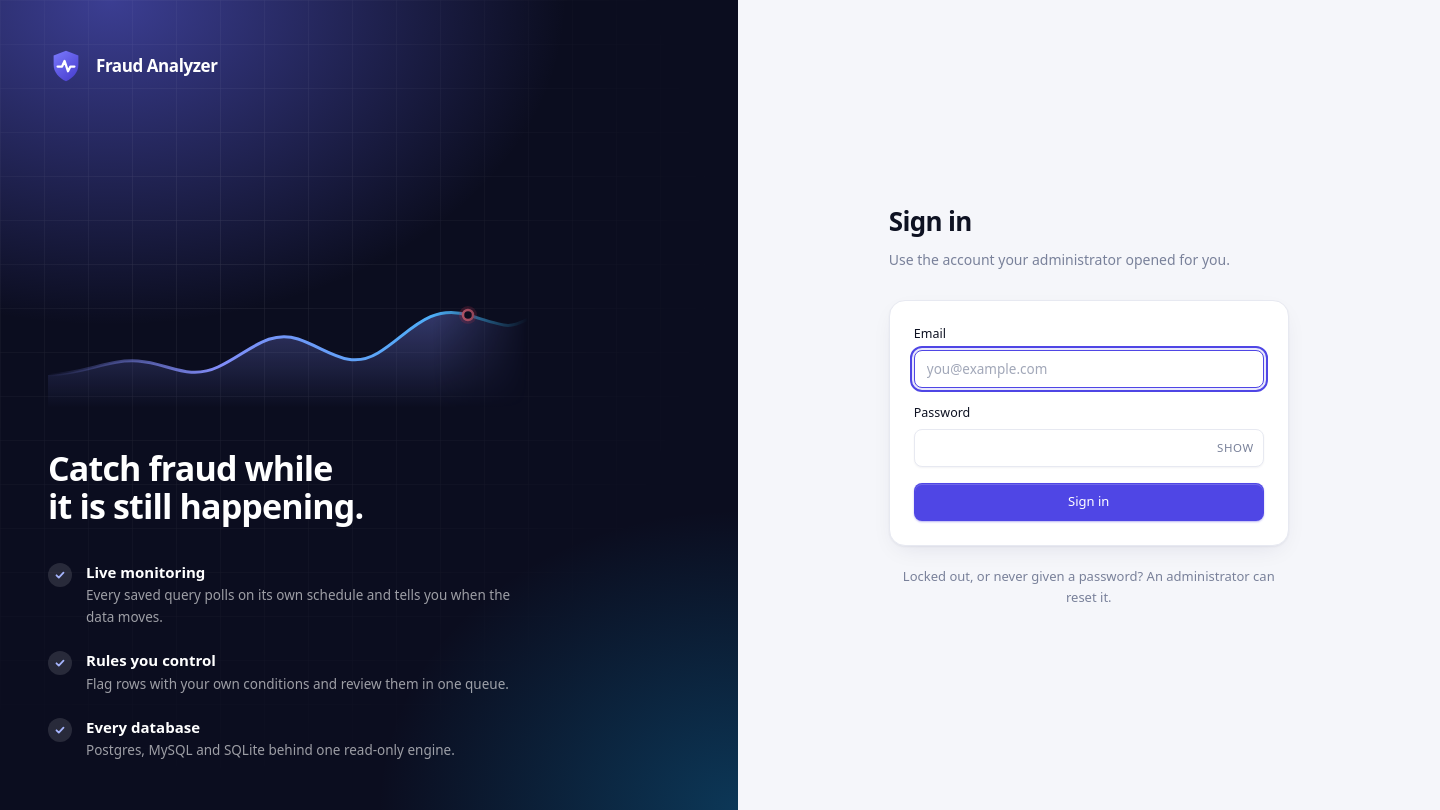
when it goes wrong › shows the engine's own sentence
Type "ada@example.com" into the field labelled "Email" at coordinates (1089, 369), box [914,350,1264,388]
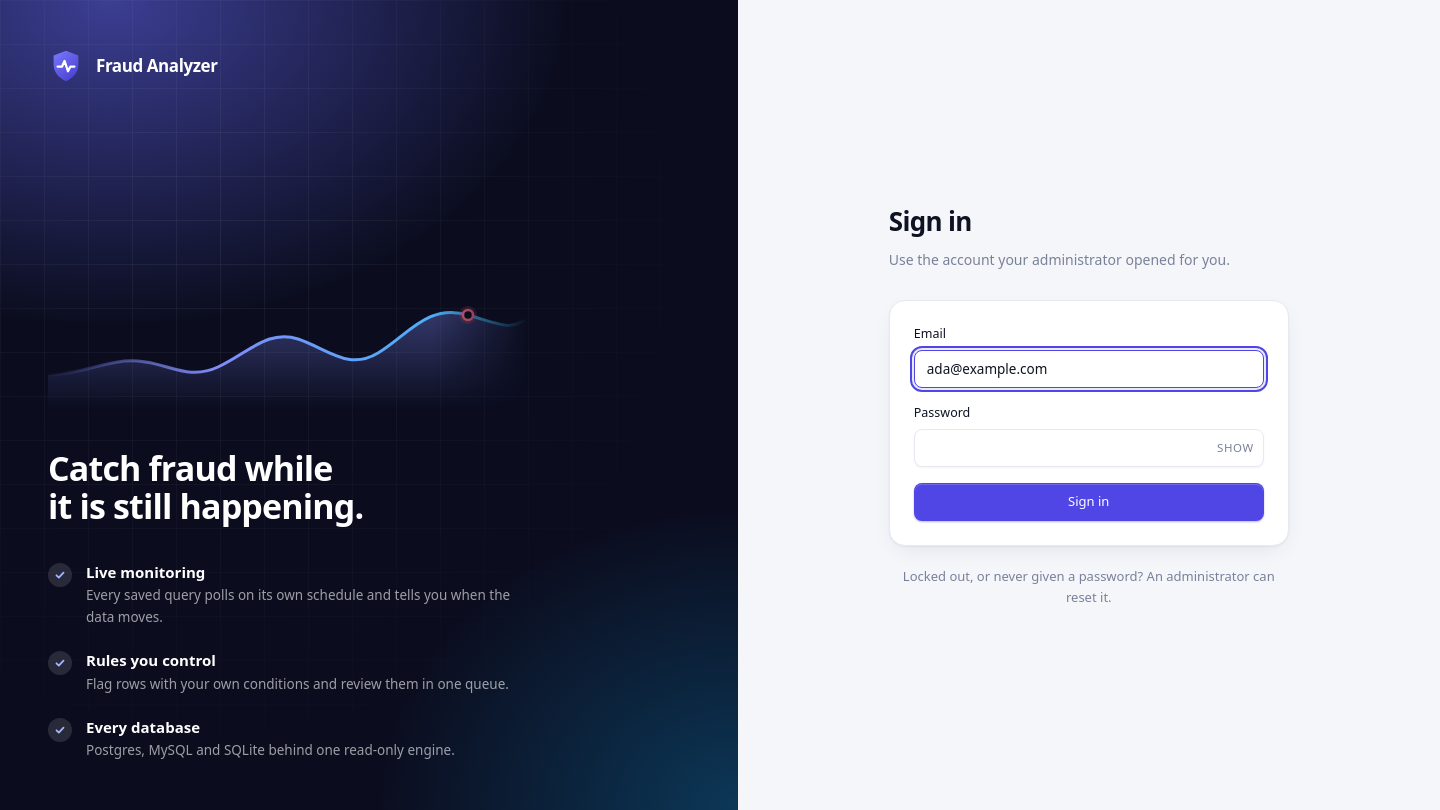
Type "hunter2hunter2" into the password field labelled "Password" at coordinates (1089, 448), box [914,429,1264,467]
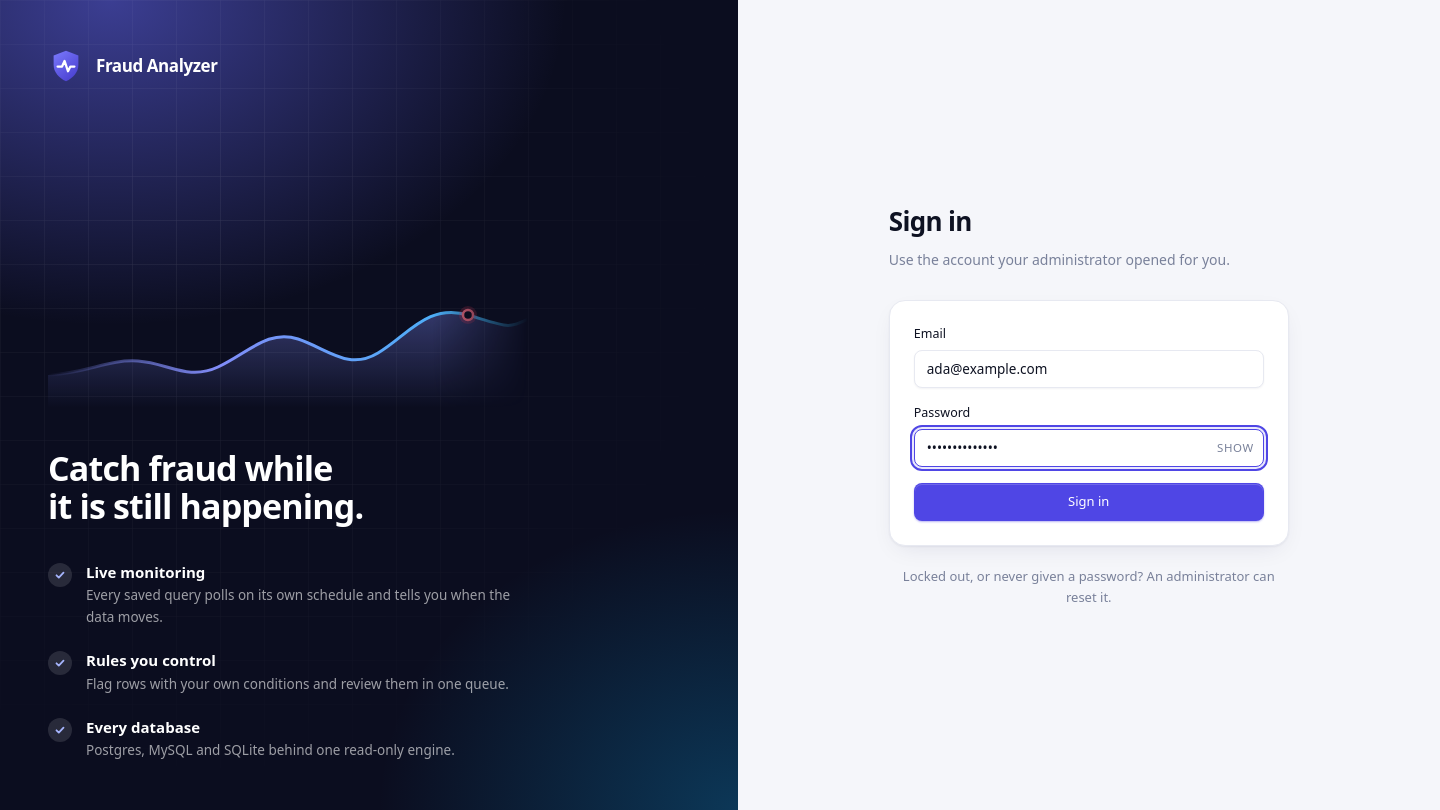
Click the button "Sign in" at coordinates (1089, 502), box [914,483,1264,520]
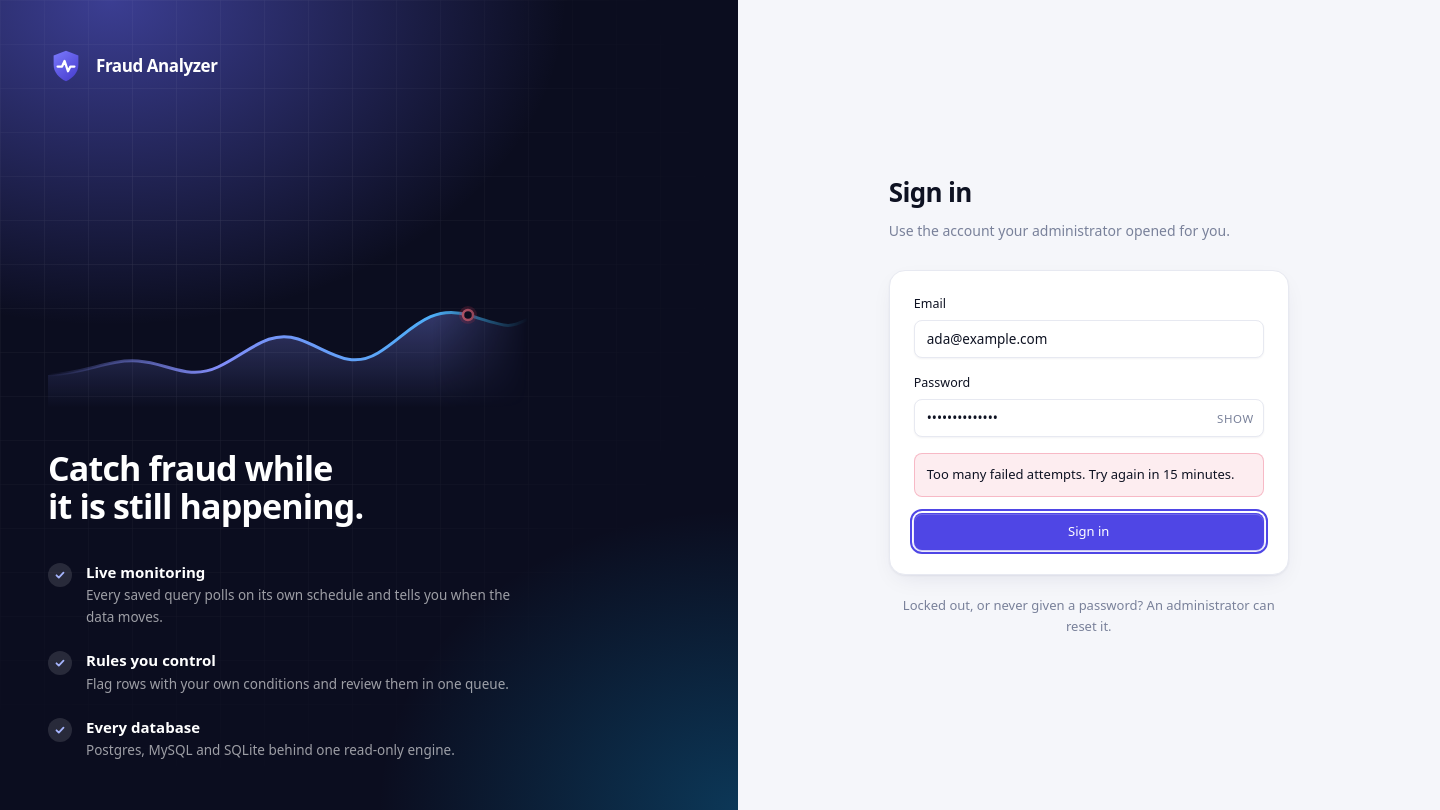
Check: the text "Too many failed attempts. Try again in 15 minutes." is shown, box [914,453,1264,496]
